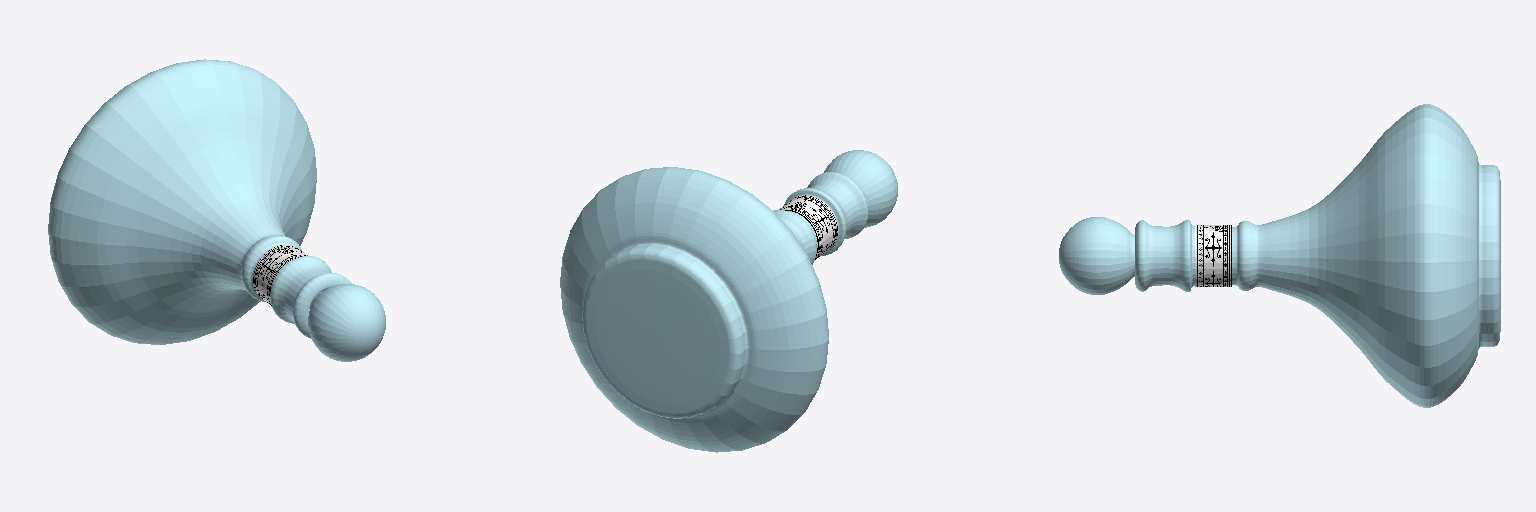
3 views of the same model, side by side, from view 1: azimuth 30°, elevation 25°; view 2: azimuth 150°, elevation 25°; view 3: azimuth 270°, elevation 25° (orthographic).
Parts seen in each view (by area): view 1: Imported_OBJ_Object; view 2: Imported_OBJ_Object; view 3: Imported_OBJ_Object.
Boxes of the visible parts, box(x1,y1,x2,y2) form: Imported_OBJ_Object: box(48, 59, 385, 361); Imported_OBJ_Object: box(560, 150, 897, 452); Imported_OBJ_Object: box(1059, 104, 1500, 407).
Bounding box in the file's own units: 0.1536 × 0.1536 × 0.2234.
4 materials, 1 textured.